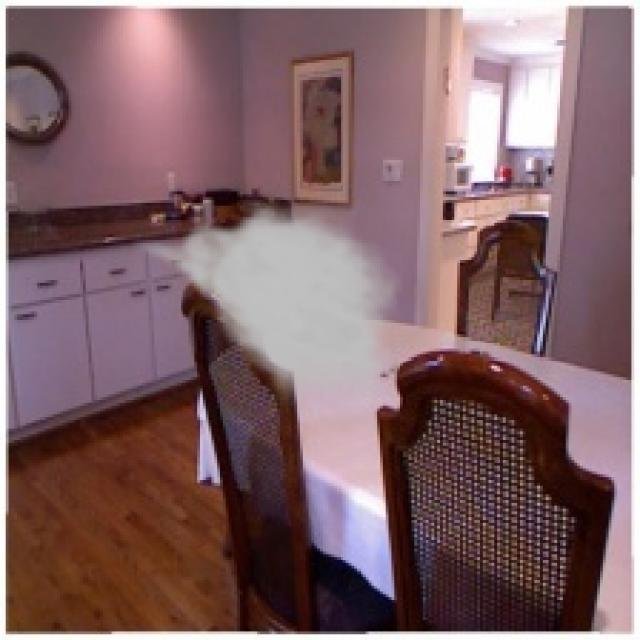Smoke: (128, 197, 403, 409)
